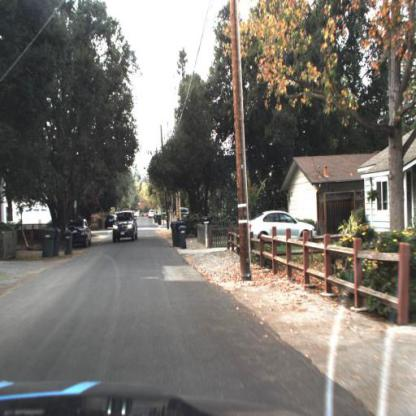car: (246, 211, 319, 245), (64, 214, 93, 250), (112, 212, 139, 243), (173, 206, 191, 221), (146, 208, 157, 220)
